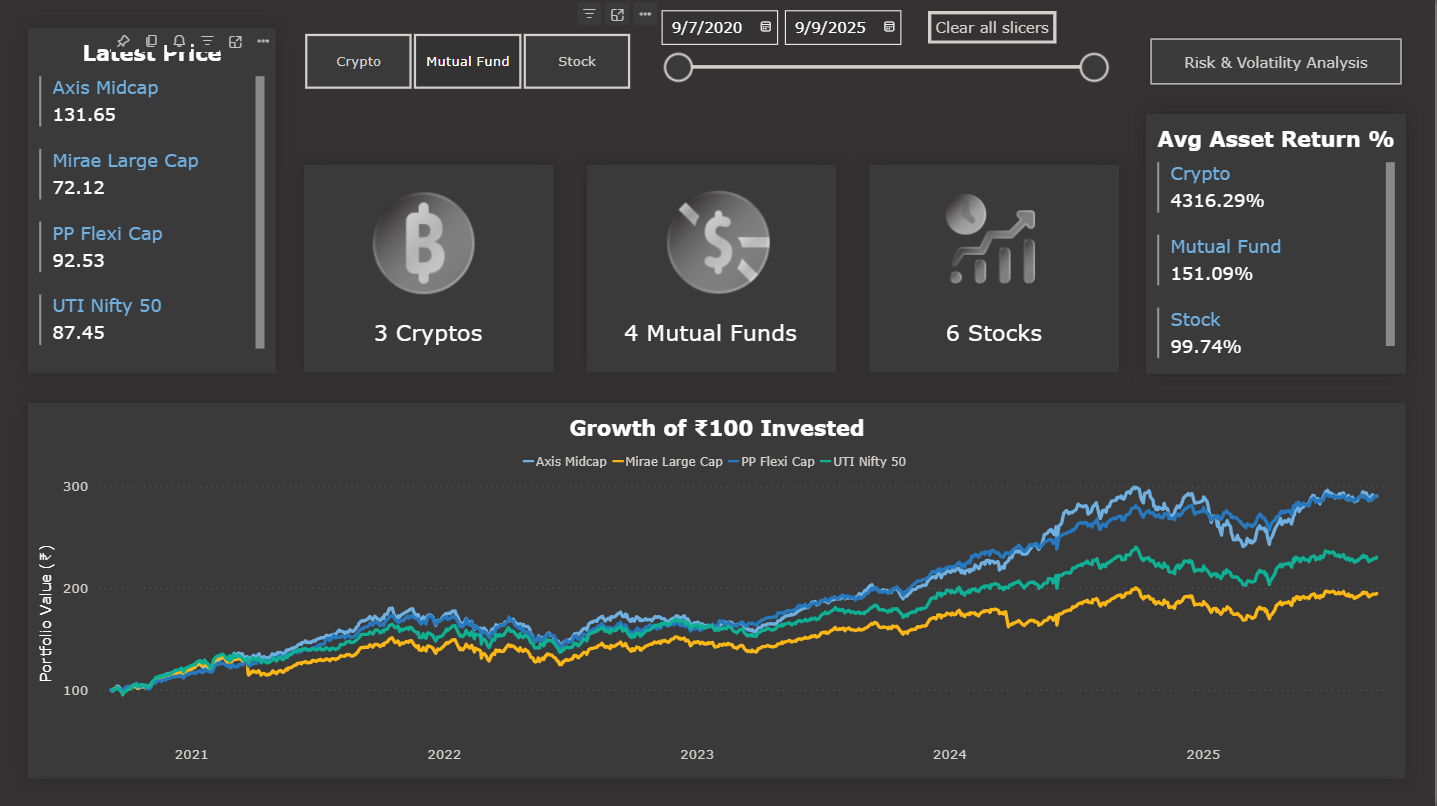

The page's visual inventory and layout, read from the dashboard file:
{"tool":"powerbi","page":{"name":"Performance Overview","canvas":[1280,720],"ordinal":0},"visuals":[{"type":"multiRowCard","title":"Latest Price","fields":{"Values":["Dim_Assets.Asset Short Name","Tbl_Measures.Latest Price"]},"box":[24.9,25.8,221.3,308.4],"z":0},{"type":"shape","title":"Mutual Funds","box":[523.9,148.4,222.2,184.9],"z":0,"group":"g1"},{"type":"slicer","title":"Select Asset Class","fields":{"Values":["Fact_MarketData.Asset Class"]},"box":[246.2,24,340.4,63.1],"z":1000},{"type":"shape","title":"Stocks","box":[775.4,148.4,223.1,184.9],"z":1000,"group":"g1"},{"type":"slicer","fields":{"Values":["Dim_Date.Date"]},"box":[576.9,0,420.4,87.1],"z":2000},{"type":"shape","title":"Crypto","box":[271.4,148.4,223.1,184.9],"z":2000,"group":"g2"},{"type":"card","fields":{"Values":["Tbl_Measures.Asset Count"]},"box":[524.1,257.3,218.7,83.6],"z":2000,"group":"g1"},{"type":"multiRowCard","title":"Avg Asset Return %","fields":{"Values":["Fact_MarketData.Asset Class","Tbl_Measures.Avg Asset Return %"]},"box":[1022.2,102.2,232,232],"z":3000},{"type":"card","fields":{"Values":["Tbl_Measures.Asset Count"]},"box":[776,257.4,221.3,84.4],"z":3000,"group":"g1"},{"type":"image","box":[579.9,157.3,121.8,120],"z":4000,"group":"g1"},{"type":"lineChart","title":"Growth of ₹100 Invested","fields":{"Category":["Dim_Date.Date.Variation.Date Hierarchy.Year"],"Y":["Tbl_Measures.Growth of ₹100"],"Series":["Dim_Assets.Asset Short Name"]},"box":[24.9,360,1229.3,335.1],"z":4000},{"type":"group","id":"g1","title":"Group 4","box":[269.3,148.4,729.2,193.5],"z":5000},{"type":"image","box":[838.5,166.2,96.9,103.1],"z":5000,"group":"g1"},{"type":"pageNavigator","box":[1022.2,31.1,232,49.8],"z":6000},{"type":"group","id":"g2","title":"Group 2","box":[269.3,148.4,225.2,193.5],"z":6000,"group":"g1"},{"type":"group","id":"g3","title":"Group 2","box":[827.6,10.7,114.7,29.3],"z":6001},{"type":"actionButton","box":[827.6,10.7,114.7,29.3],"z":6500,"group":"g3"},{"type":"card","title":"Stocks","fields":{"Values":["Tbl_Measures.Asset Count"]},"box":[269.3,257.4,224.9,84.4],"z":8000,"group":"g2"},{"type":"image","box":[318.5,154.6,119.1,126.2],"z":11000,"group":"g2"}]}

Visuals, with their boxes on the page's 1280x720 design canvas (x1, y1, x2, y2). These are canvas units, not pixel positions in the 1437x806 screenshot, which may show the page scaled, cropped or inside an application window:
"Latest Price" multiRowCard: {"left": 25, "top": 26, "right": 246, "bottom": 334}
"Mutual Funds" shape: {"left": 524, "top": 148, "right": 746, "bottom": 333}
"Select Asset Class" slicer: {"left": 246, "top": 24, "right": 587, "bottom": 87}
"Stocks" shape: {"left": 775, "top": 148, "right": 998, "bottom": 333}
slicer - Dim_Date.Date: {"left": 577, "top": 0, "right": 997, "bottom": 87}
"Crypto" shape: {"left": 271, "top": 148, "right": 494, "bottom": 333}
card - Tbl_Measures.Asset Count: {"left": 524, "top": 257, "right": 743, "bottom": 341}
"Avg Asset Return %" multiRowCard: {"left": 1022, "top": 102, "right": 1254, "bottom": 334}
card - Tbl_Measures.Asset Count: {"left": 776, "top": 257, "right": 997, "bottom": 342}
image: {"left": 580, "top": 157, "right": 702, "bottom": 277}
"Growth of ₹100 Invested" lineChart: {"left": 25, "top": 360, "right": 1254, "bottom": 695}
"Group 4" group: {"left": 269, "top": 148, "right": 998, "bottom": 342}
image: {"left": 838, "top": 166, "right": 935, "bottom": 269}
pageNavigator: {"left": 1022, "top": 31, "right": 1254, "bottom": 81}
"Group 2" group: {"left": 269, "top": 148, "right": 494, "bottom": 342}
"Group 2" group: {"left": 828, "top": 11, "right": 942, "bottom": 40}
actionButton: {"left": 828, "top": 11, "right": 942, "bottom": 40}
"Stocks" card: {"left": 269, "top": 257, "right": 494, "bottom": 342}
image: {"left": 318, "top": 155, "right": 438, "bottom": 281}
